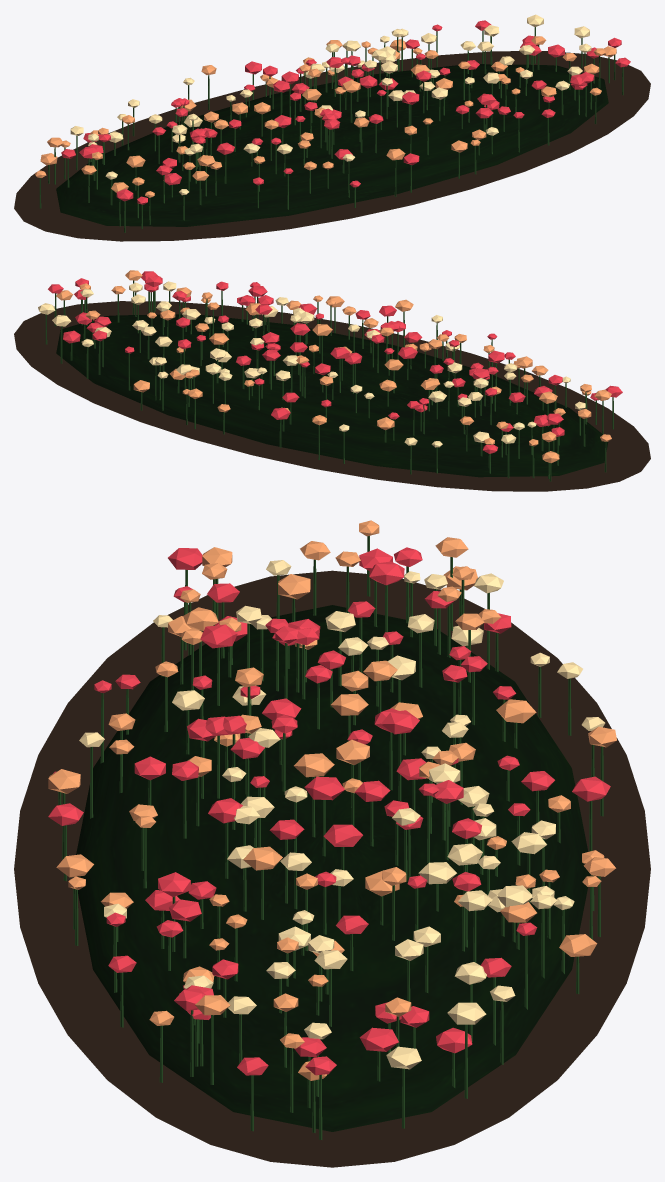
The model's file is flower-bed-7.glb.
3 views of the same model, one above another, from view 1: azimuth 30°, elevation 25°; view 2: azimuth 150°, elevation 25°; view 3: azimuth 270°, elevation 25° (orthographic). The views are drawn at different scales.
Parts seen in each view (by area): view 1: flower-bed-7_MeshStandardMaterial (×4); view 2: flower-bed-7_MeshStandardMaterial (×4); view 3: flower-bed-7_MeshStandardMaterial (×4).
Boxes of the visible parts, box(x1,y1,x2,y2) form: flower-bed-7_MeshStandardMaterial (×4): box(14, 14, 650, 241); flower-bed-7_MeshStandardMaterial (×4): box(14, 270, 650, 491); flower-bed-7_MeshStandardMaterial (×4): box(14, 520, 650, 1167).
Bounding box in the file's own units: 5.1 × 0.5558 × 2.3.
Materials: 4 (1 with a texture image).
